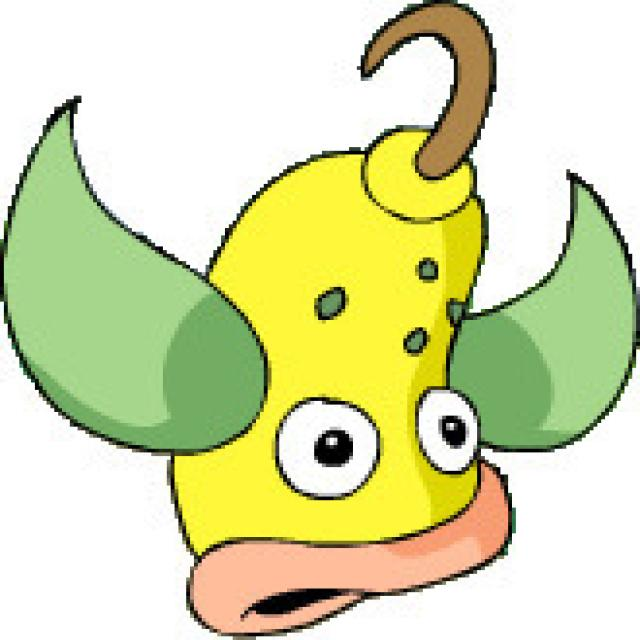Weepinbell: (162, 128, 532, 632)
